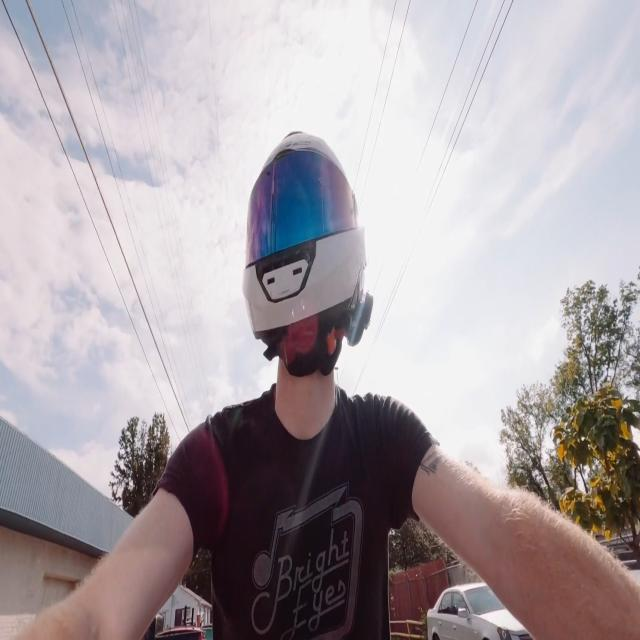Helmet_Wearer: (236, 117, 363, 414)
Person: (0, 132, 605, 640)
